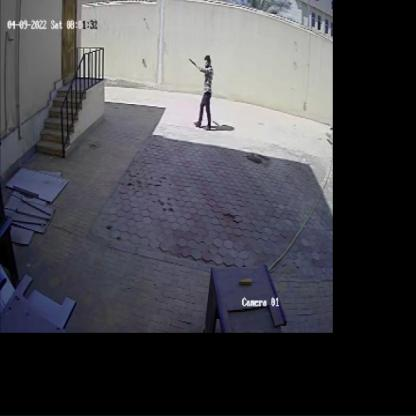handgun: (185, 53, 204, 76)
